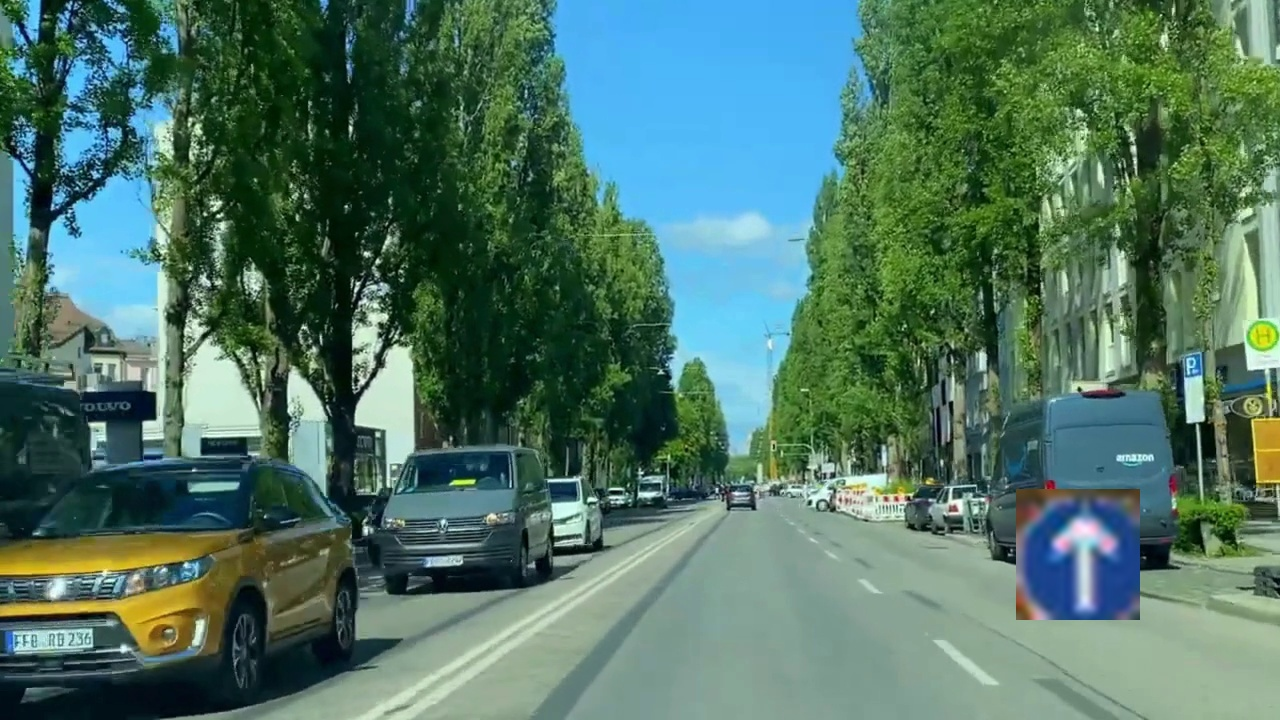Ahead only: (1016, 489, 1140, 620)
